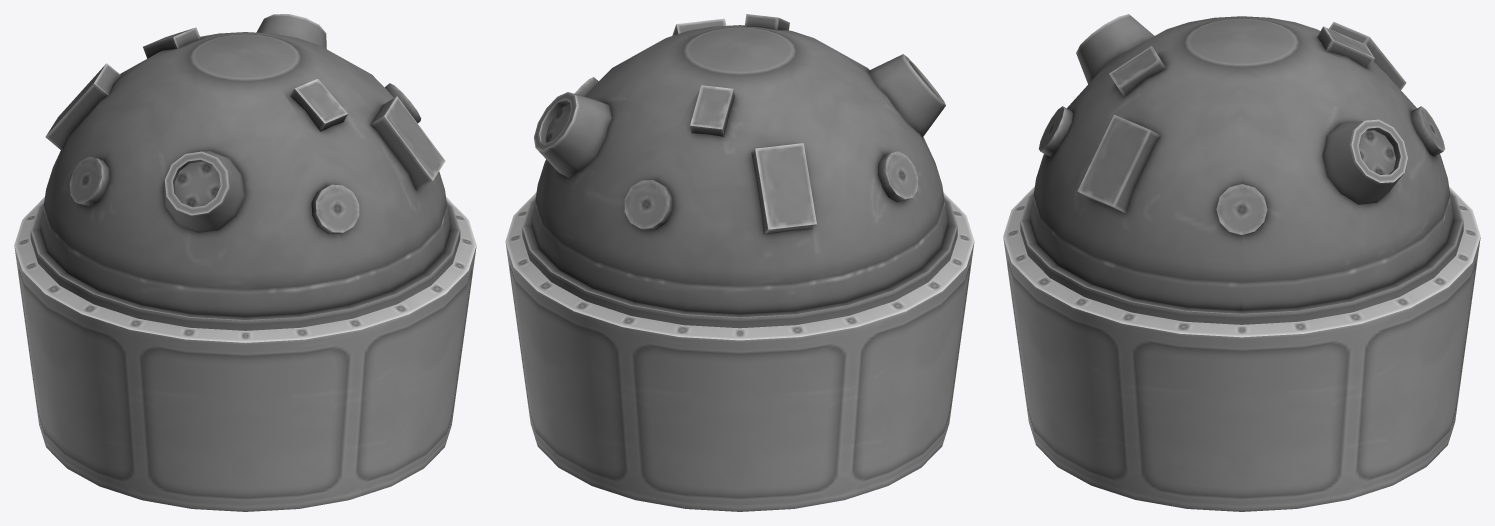
File: luna2.obj
The picture shows the model from 3 angles, left to right: view 1: azimuth 30°, elevation 25°; view 2: azimuth 150°, elevation 25°; view 3: azimuth 270°, elevation 25°; orthographic projection. The views are drawn at different scales.
Parts seen in each view (by area): view 1: luna2, fairing; view 2: luna2, fairing; view 3: luna2, fairing.
Boxes of the visible parts, x1,y1,x2,y2 form: luna2: [30, 14, 460, 330]; fairing: [14, 197, 476, 511]; luna2: [522, 14, 957, 328]; fairing: [505, 192, 974, 511]; luna2: [1020, 14, 1463, 324]; fairing: [1003, 186, 1480, 511].
Size of the model in its own units: 0.7 by 0.625 by 0.7.
Materials: 1 (1 with a texture image).
